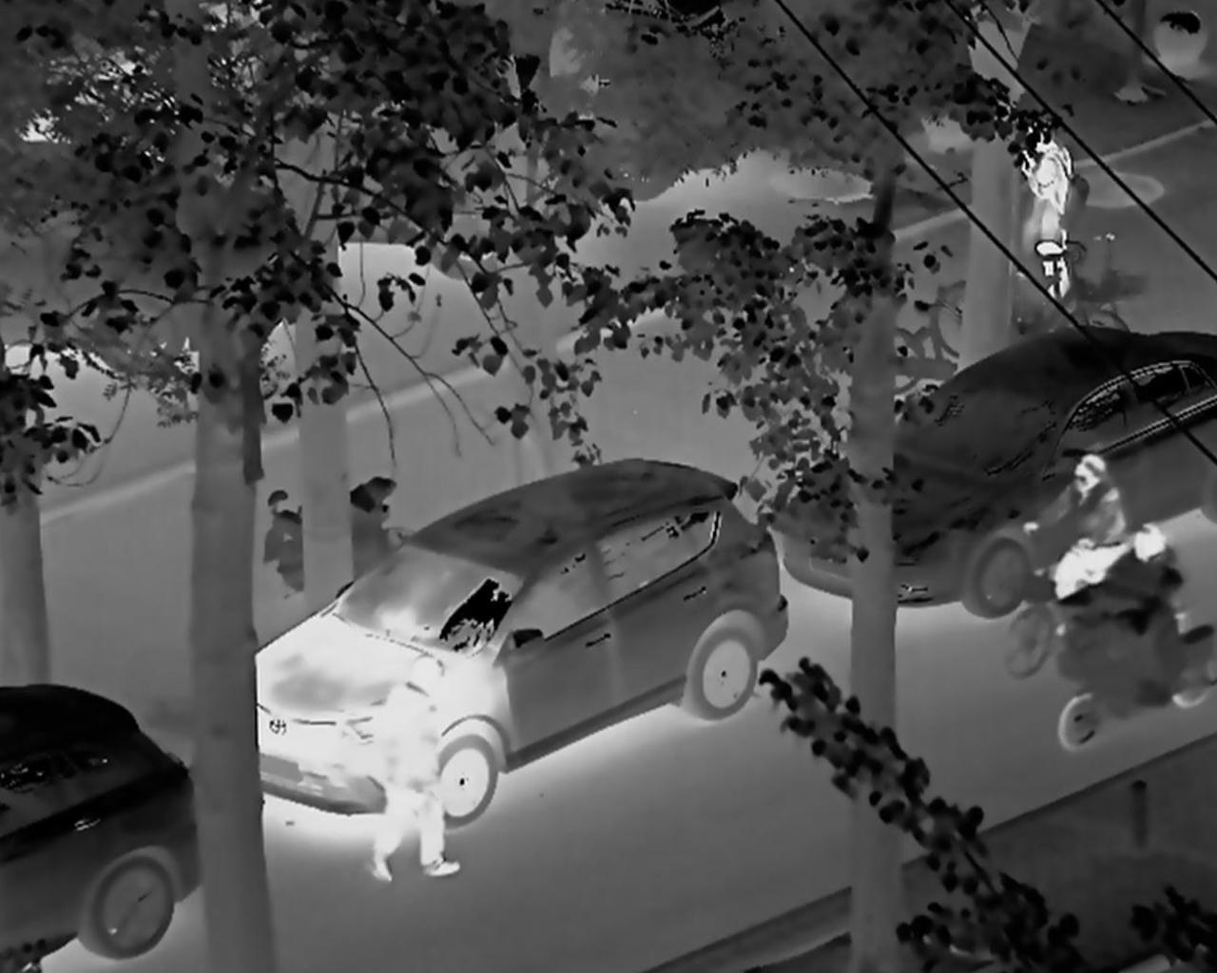person: (356, 639, 469, 893), (1075, 513, 1199, 721), (1016, 424, 1131, 648), (1016, 122, 1088, 312)
